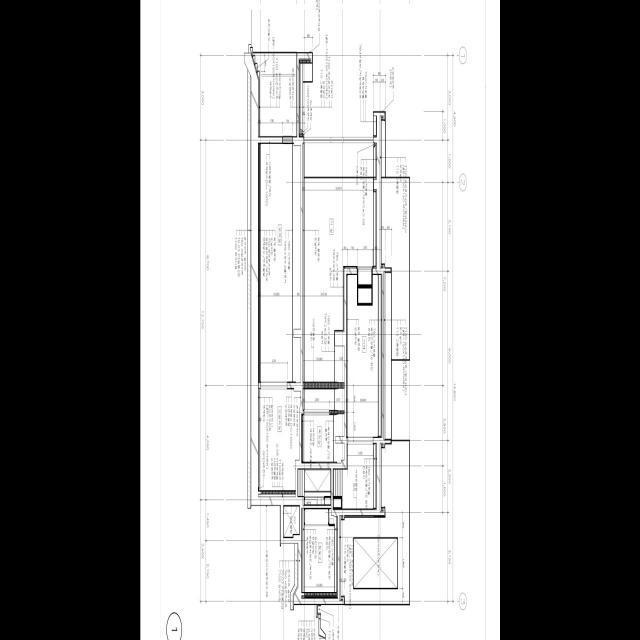background: (140, 0, 500, 640)
space_bedroom: (301, 508, 337, 592)
space_living_room: (302, 143, 377, 382)
space_other: (258, 144, 300, 382), (346, 271, 382, 437), (258, 389, 300, 490), (353, 538, 397, 588), (297, 469, 330, 505), (302, 388, 344, 411), (283, 507, 299, 537), (258, 494, 295, 497)
space_staircase: (333, 443, 376, 509)
space_toilet: (301, 414, 344, 463)
